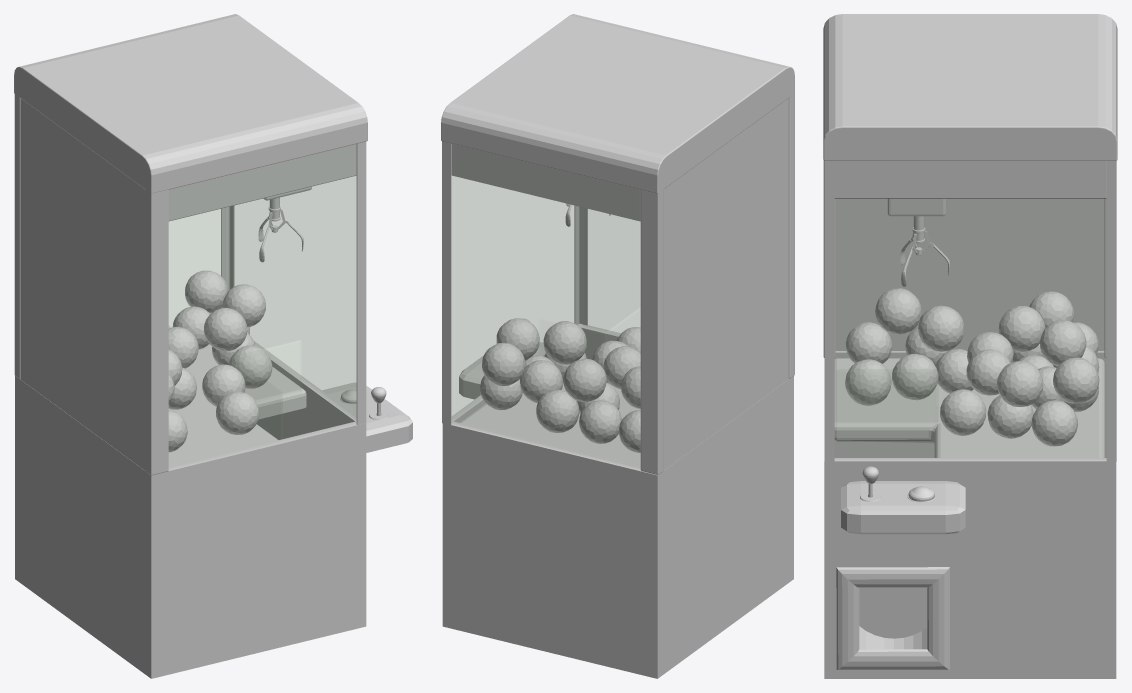
Rendered from MaquinaPeluche.fbx.
The picture shows the model from 3 angles, left to right: view 1: azimuth 30°, elevation 25°; view 2: azimuth 150°, elevation 25°; view 3: azimuth 270°, elevation 25°; orthographic projection. The views are drawn at different scales.
Visible parts, largest first — view 1: Cube.014, Plane.038, Plane.025, Plane.028, Plane.040, Plane.030, Plane.022, Plane.032, Plane.039, Plane.027, Cube.015, Plane.029 (+13 smaller); view 2: Cube.014, Plane.039, Plane.025, Plane.028, Plane.040, Plane.029, Plane.022, Plane.038, Plane.032, Plane.026, Plane.030, Plane.027 (+13 smaller); view 3: Plane.040, Cube.014, Plane.025, Plane.028, Plane.032, Plane.022, Torus.001, Cube.015, Plane.034, Plane.026, Plane.027, Icosphere.038 (+20 smaller).
Part boxes in pixels (bbox=[...]): Cube.014: bbox=[15, 341, 366, 678]; Plane.038: bbox=[169, 145, 355, 467]; Plane.025: bbox=[14, 14, 367, 193]; Plane.028: bbox=[20, 98, 145, 470]; Plane.040: bbox=[229, 176, 355, 416]; Plane.030: bbox=[146, 189, 168, 475]; Plane.022: bbox=[168, 144, 356, 221]; Plane.032: bbox=[168, 344, 306, 466]; Plane.039: bbox=[169, 208, 225, 326]; Plane.027: bbox=[356, 141, 366, 424]; Cube.015: bbox=[322, 382, 412, 452]; Plane.029: bbox=[14, 92, 20, 379]; Cube.014: bbox=[442, 323, 793, 678]; Plane.039: bbox=[452, 144, 639, 467]; Plane.025: bbox=[441, 14, 794, 193]; Plane.028: bbox=[663, 98, 788, 470]; Plane.040: bbox=[452, 176, 578, 417]; Plane.029: bbox=[640, 188, 663, 474]; Plane.022: bbox=[451, 144, 640, 221]; Plane.038: bbox=[583, 208, 639, 330]; Plane.032: bbox=[460, 383, 640, 466]; Plane.026: bbox=[442, 141, 451, 425]; Plane.030: bbox=[788, 92, 794, 378]; Plane.027: bbox=[574, 205, 587, 325]; Plane.040: bbox=[835, 199, 1105, 458]; Cube.014: bbox=[824, 351, 1116, 678]; Plane.025: bbox=[823, 14, 1117, 160]; Plane.028: bbox=[835, 198, 1104, 350]; Plane.032: bbox=[834, 358, 1104, 457]; Plane.022: bbox=[834, 160, 1106, 198]; Torus.001: bbox=[836, 567, 949, 669]; Cube.015: bbox=[841, 481, 965, 534]; Plane.034: bbox=[837, 370, 937, 422]; Plane.026: bbox=[1106, 160, 1116, 461]; Plane.027: bbox=[824, 160, 834, 461]; Icosphere.038: bbox=[875, 288, 921, 334].
Size of the model in its own units: 54.39 by 97.54 by 47.01.
